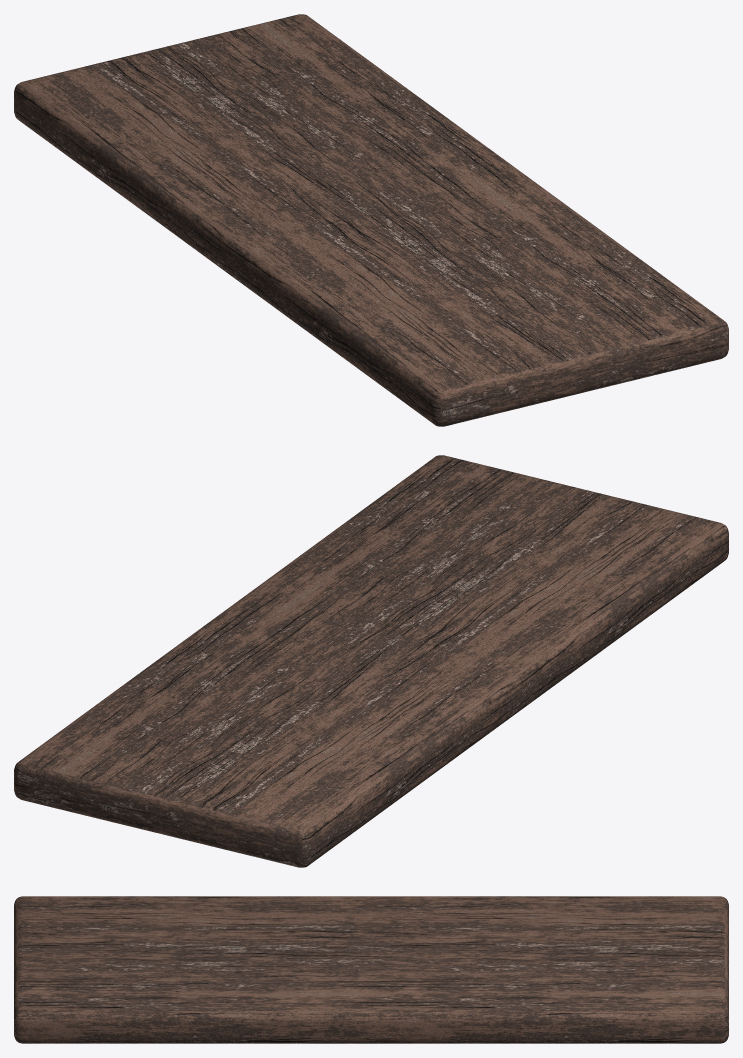
Rendered from Доска.fbx.
3 renders of one model, top to bottom at view 1: azimuth 30°, elevation 25°; view 2: azimuth 150°, elevation 25°; view 3: azimuth 270°, elevation 25°, orthographic. The views are drawn at different scales.
Parts seen in each view (by area): view 1: Cube.002; view 2: Cube.002; view 3: Cube.002.
Boxes of the visible parts, x1=… form: Cube.002: x1=14, y1=14, x2=728, y2=426; Cube.002: x1=14, y1=455, x2=728, y2=867; Cube.002: x1=14, y1=896, x2=728, y2=1043.
Bounding box in the file's own units: 20 × 2.5 × 50.
1 material, 1 textured.
